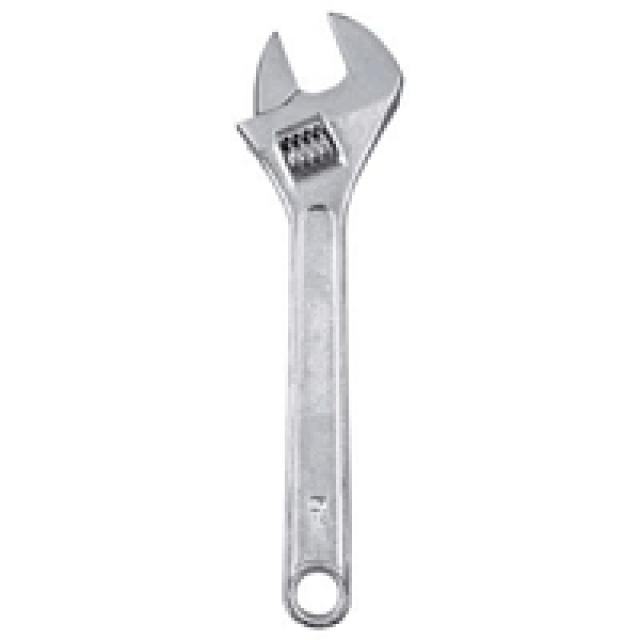wrench: (215, 0, 472, 640)
